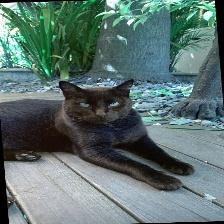kedo: (0, 78, 196, 191)
